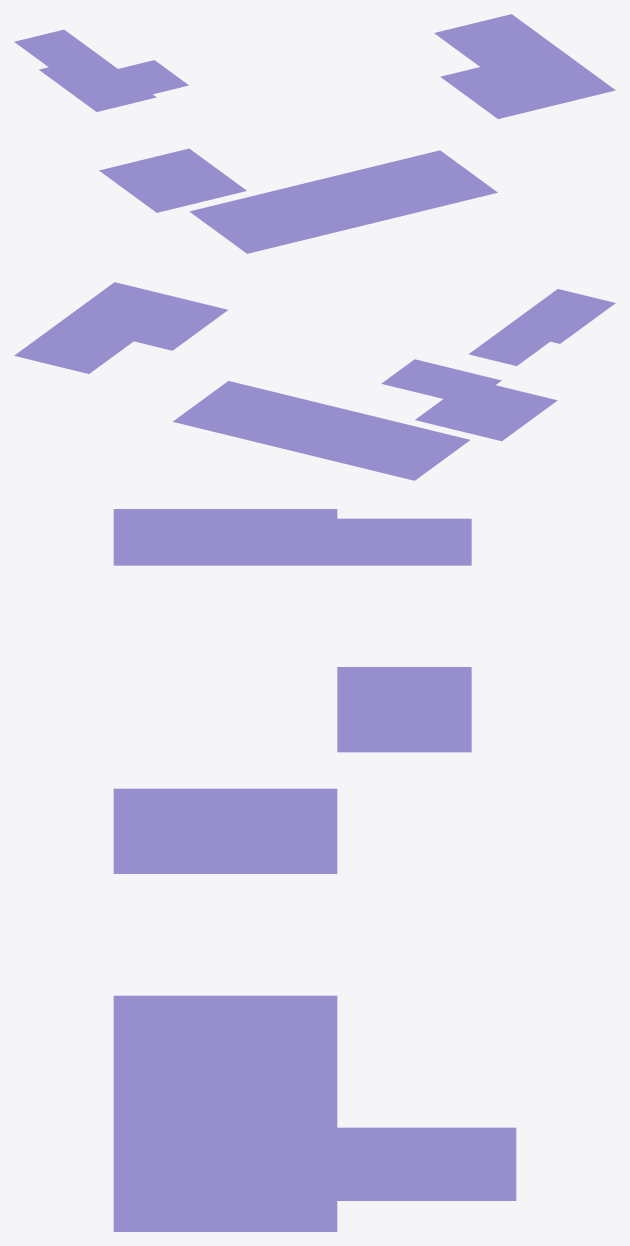
File: 02beginfloor - Copy.fbx
3 renders of one model, top to bottom at view 1: azimuth 30°, elevation 25°; view 2: azimuth 150°, elevation 25°; view 3: azimuth 270°, elevation 25°, orthographic. The views are drawn at different scales.
Parts seen in each view (by area): view 1: PolyShape__7_.012, PolyShape__7_.008, PolyShape__7_.009, PolyShape__7_.011, PolyShape__7_.010; view 2: PolyShape__7_.012, PolyShape__7_.008, PolyShape__7_.009, PolyShape__7_.011, PolyShape__7_.010; view 3: PolyShape__7_.008, PolyShape__7_.012, PolyShape__7_.011, PolyShape__7_.009, PolyShape__7_.010.
Boxes of the visible parts, x1=… form: PolyShape__7_.012: x1=189, y1=150, x2=497, y2=253; PolyShape__7_.008: x1=434, y1=14, x2=615, y2=118; PolyShape__7_.009: x1=14, y1=29, x2=156, y2=111; PolyShape__7_.011: x1=99, y1=148, x2=246, y2=212; PolyShape__7_.010: x1=118, y1=60, x2=188, y2=94; PolyShape__7_.012: x1=173, y1=381, x2=469, y2=480; PolyShape__7_.008: x1=14, y1=282, x2=227, y2=373; PolyShape__7_.009: x1=469, y1=289, x2=615, y2=365; PolyShape__7_.011: x1=415, y1=385, x2=557, y2=441; PolyShape__7_.010: x1=381, y1=359, x2=501, y2=404; PolyShape__7_.008: x1=113, y1=1090, x2=516, y2=1200; PolyShape__7_.012: x1=113, y1=995, x2=337, y2=1231; PolyShape__7_.011: x1=113, y1=788, x2=337, y2=873; PolyShape__7_.009: x1=113, y1=509, x2=471, y2=565; PolyShape__7_.010: x1=337, y1=667, x2=471, y2=752.
Size of the model in its own units: 51.75 by 17 by 18.
